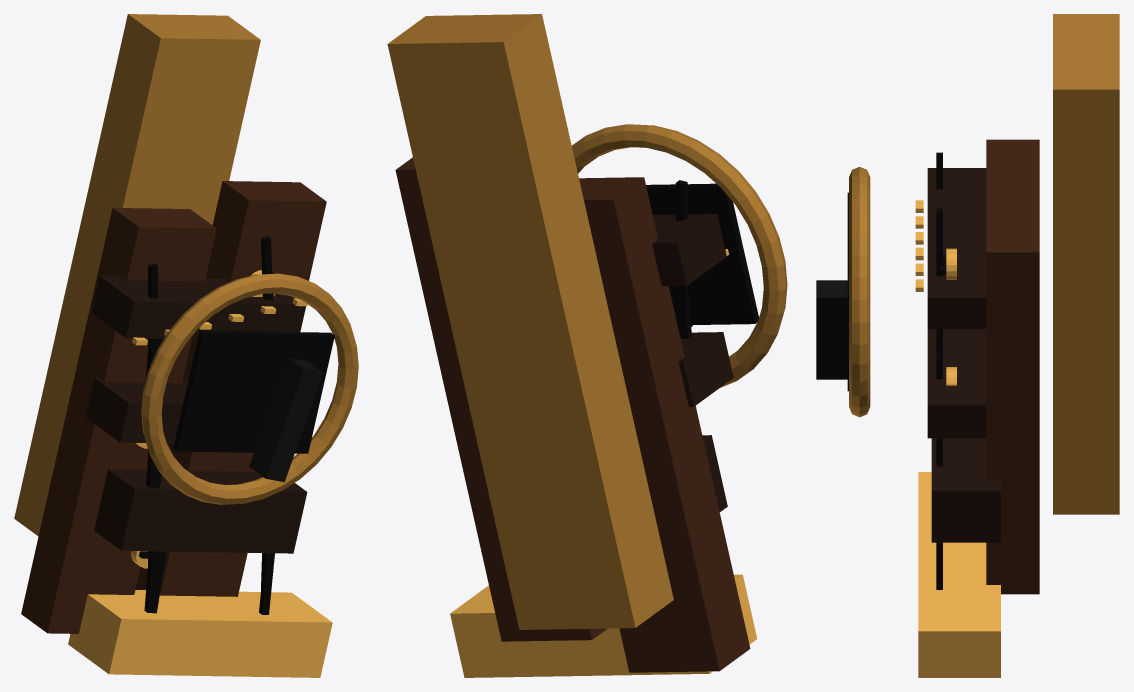
File: WPB_004_WalnutLeatherGripPlates_Staged.obj
3 views of the same model, side by side, from view 1: azimuth 30°, elevation 25°; view 2: azimuth 150°, elevation 25°; view 3: azimuth 270°, elevation 25° (orthographic). The views are drawn at different scales.
Visible parts, largest first — view 1: grip_brass_tang_spine, grip_left_walnut_plate, grip_polished_butt_cap, grip_right_walnut_plate, grip_leather_backstrap, grip_trigger_guard_loop, grip_trigger_guard_cut_shadow, grip_leather_upper_wrap, grip_trigger_stub, grip_leather_mid_wrap, grip_walnut_grain_right_0; view 2: grip_brass_tang_spine, grip_left_walnut_plate, grip_right_walnut_plate, grip_trigger_guard_loop, grip_polished_butt_cap, grip_trigger_guard_cut_shadow, grip_leather_upper_wrap, grip_leather_mid_wrap, grip_leather_backstrap; view 3: grip_brass_tang_spine, grip_right_walnut_plate, grip_polished_butt_cap, grip_leather_upper_wrap, grip_leather_backstrap, grip_leather_mid_wrap, grip_trigger_guard_loop, grip_trigger_stub, grip_left_walnut_plate.
Part boxes in pixels (x1,y1,x2,y2): grip_brass_tang_spine: (14, 14, 260, 536); grip_left_walnut_plate: (21, 208, 216, 633); grip_polished_butt_cap: (68, 590, 332, 677); grip_right_walnut_plate: (135, 181, 326, 596); grip_leather_backstrap: (94, 466, 307, 553); grip_trigger_guard_loop: (141, 273, 358, 504); grip_trigger_guard_cut_shadow: (173, 330, 334, 453); grip_leather_upper_wrap: (91, 276, 305, 339); grip_trigger_stub: (249, 358, 322, 481); grip_leather_mid_wrap: (85, 378, 188, 443); grip_walnut_grain_right_0: (259, 553, 274, 614); grip_brass_tang_spine: (387, 14, 673, 629); grip_left_walnut_plate: (579, 177, 750, 672); grip_right_walnut_plate: (395, 157, 606, 641); grip_trigger_guard_loop: (572, 124, 787, 387); grip_polished_butt_cap: (450, 574, 757, 677); grip_trigger_guard_cut_shadow: (646, 183, 758, 324); grip_leather_upper_wrap: (652, 214, 726, 286); grip_leather_mid_wrap: (678, 332, 733, 406); grip_leather_backstrap: (702, 435, 727, 511); grip_brass_tang_spine: (1053, 14, 1119, 514); grip_right_walnut_plate: (986, 193, 1039, 594); grip_polished_butt_cap: (918, 472, 1000, 677); grip_leather_upper_wrap: (927, 168, 986, 328); grip_leather_backstrap: (931, 438, 1000, 542); grip_leather_mid_wrap: (927, 329, 986, 438); grip_trigger_guard_loop: (849, 166, 870, 417); grip_trigger_stub: (816, 280, 847, 379); grip_left_walnut_plate: (986, 139, 1039, 193).
Bounding box in the file's own units: 0.2438 × 0.5116 × 0.2275.
